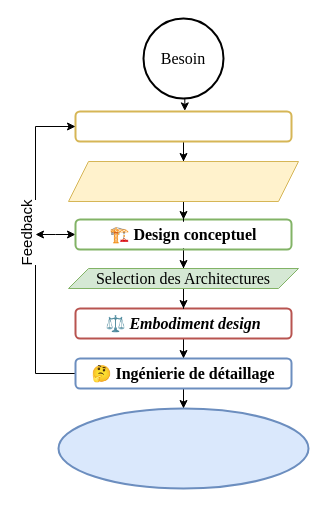
This 327x506 diagram has some shape labels left out. The box of each missing label's shape, as (x1, y1, x2, y2) in pixels:
Dessins techniques Modèles CAO Simulations, etc..: (57, 407, 309, 489)
Énoncé de la problématique de conception: (68, 160, 298, 202)
🤔 Analyse du Problème: (74, 110, 292, 142)
